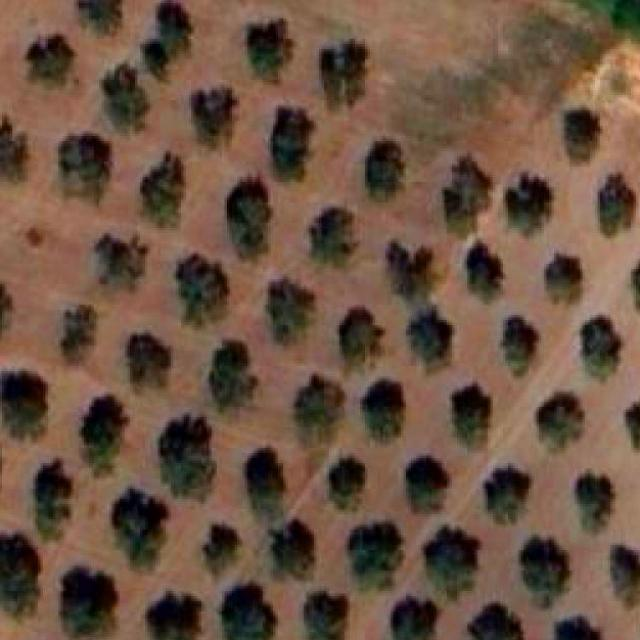Tree: (156, 415, 214, 499), (344, 516, 406, 590), (111, 489, 168, 568), (59, 565, 117, 637), (140, 1, 191, 81), (442, 156, 491, 238), (79, 394, 128, 476), (424, 528, 479, 601), (175, 254, 229, 326), (224, 177, 270, 259), (518, 537, 568, 608), (58, 134, 110, 202), (319, 39, 368, 108), (264, 276, 314, 343), (208, 340, 258, 407), (139, 151, 183, 226), (0, 534, 38, 620), (219, 582, 275, 640), (269, 107, 314, 179), (100, 64, 147, 131), (3, 371, 48, 440), (244, 448, 286, 521), (188, 88, 237, 150), (244, 18, 290, 83), (309, 207, 358, 267), (34, 460, 70, 540), (93, 237, 147, 290), (505, 175, 551, 237), (536, 395, 585, 453), (449, 383, 490, 450), (294, 374, 344, 428), (578, 315, 620, 379), (269, 519, 314, 578), (361, 378, 403, 440), (391, 241, 434, 301), (484, 467, 530, 523), (406, 307, 452, 363), (148, 591, 200, 640), (337, 308, 382, 364), (404, 455, 449, 511), (572, 470, 612, 532), (24, 34, 74, 83), (363, 138, 403, 199), (127, 333, 171, 388), (597, 175, 636, 237), (466, 240, 503, 302), (467, 603, 527, 640), (502, 318, 539, 377), (389, 593, 434, 640), (326, 456, 365, 510), (60, 305, 96, 363), (561, 109, 600, 162), (610, 545, 640, 609), (202, 524, 240, 574), (300, 596, 342, 640), (0, 115, 28, 180), (544, 254, 580, 302), (78, 0, 122, 33), (554, 616, 605, 640), (20, 220, 50, 254), (0, 281, 13, 337), (626, 402, 640, 450), (632, 258, 640, 312)
